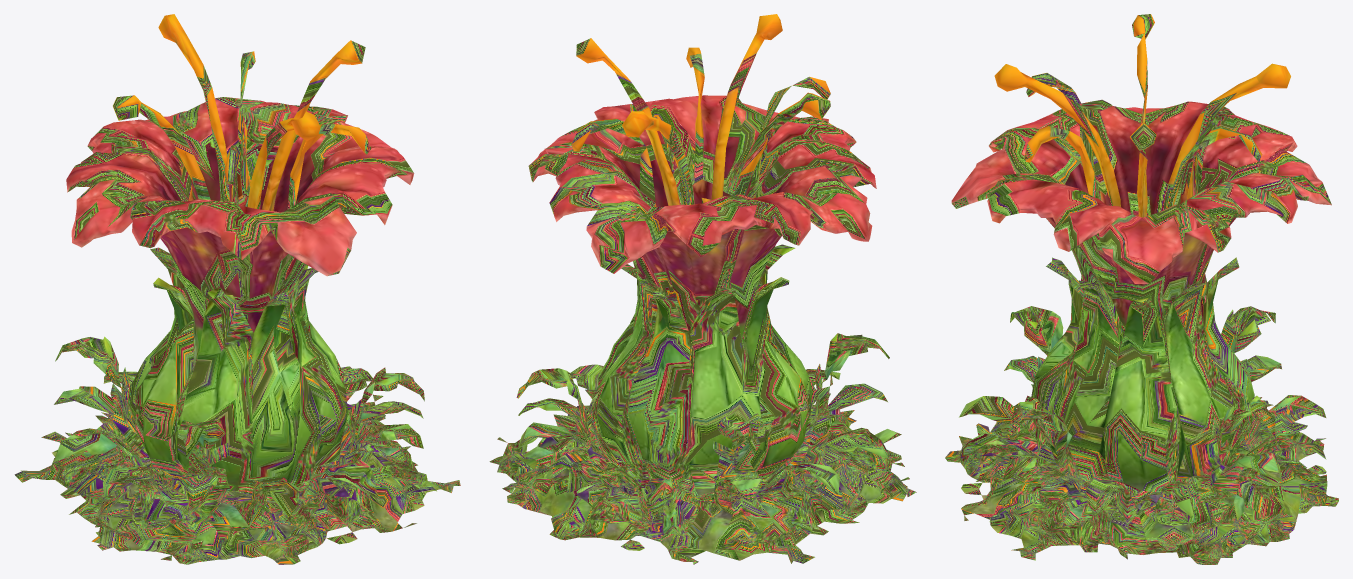
The model's file is red-trumpet-flower.glb.
3 views of the same model, side by side, from view 1: azimuth 30°, elevation 25°; view 2: azimuth 150°, elevation 25°; view 3: azimuth 270°, elevation 25° (orthographic).
Bounding box in the file's own units: 1.68 × 1.9 × 1.63.
Materials: 1 (1 with a texture image).
